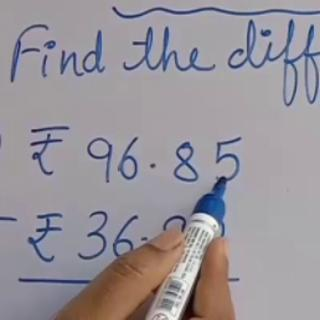.: (147, 159, 160, 171)
3: (79, 211, 108, 261)
5: (213, 136, 245, 181)
6: (113, 213, 142, 262), (120, 136, 140, 182)
8: (172, 141, 199, 183)
9: (87, 136, 115, 182)
